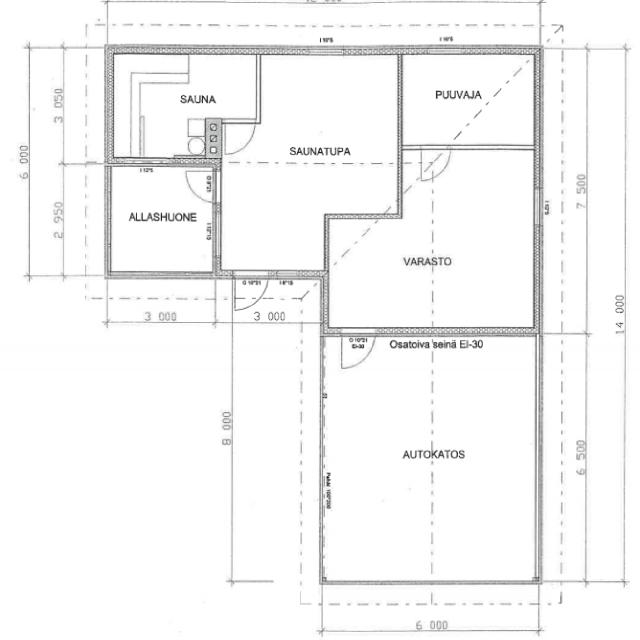door: (198, 150, 238, 212), (340, 331, 378, 372), (233, 272, 270, 312), (222, 118, 258, 157), (183, 166, 217, 204), (421, 147, 454, 180)
window: (114, 155, 178, 171), (210, 204, 227, 260), (530, 182, 548, 232), (273, 268, 309, 282)
zone: (400, 52, 538, 147), (105, 162, 216, 276), (134, 76, 211, 162), (186, 56, 260, 120)
